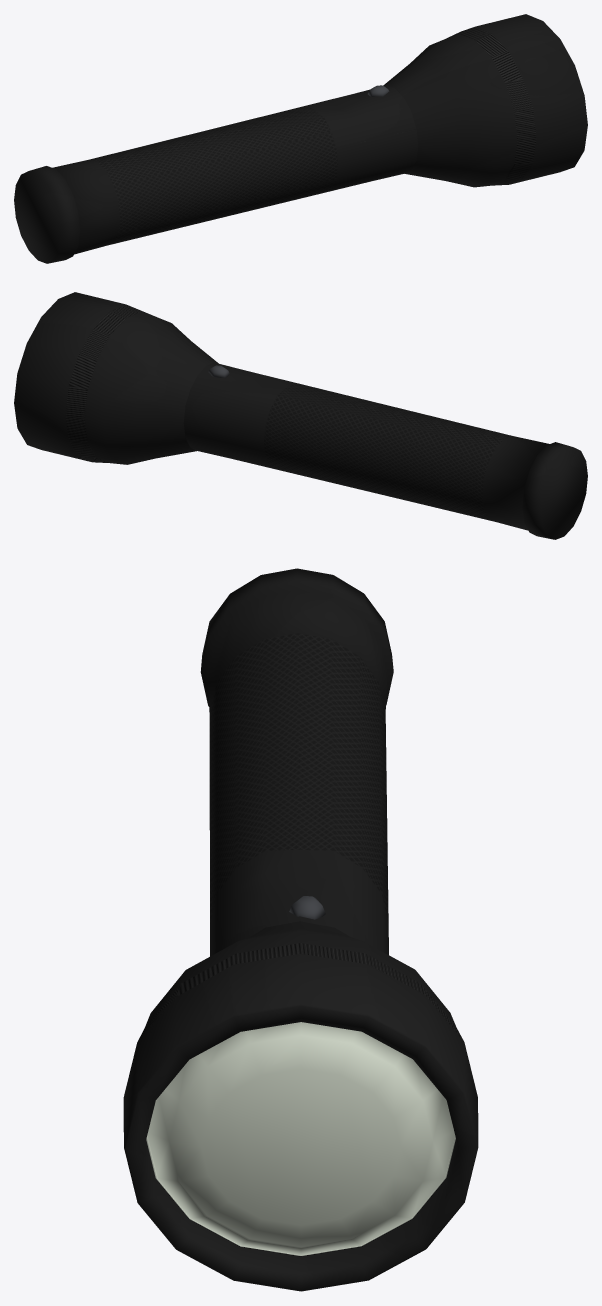
The model's file is flashlight.fbx.
The picture shows the model from 3 angles, top to bottom: view 1: azimuth 30°, elevation 25°; view 2: azimuth 150°, elevation 25°; view 3: azimuth 270°, elevation 25°; orthographic projection. The views are drawn at different scales.
Visible parts, largest first — view 1: Flashlight; view 2: Flashlight; view 3: Flashlight.
Boxes of the visible parts, left/top/right/bottom form: Flashlight: left=14, top=14, right=587, bottom=263; Flashlight: left=14, top=292, right=587, bottom=539; Flashlight: left=123, top=568, right=478, bottom=1291.
Size of the model in its own units: 558 by 152 by 169.
